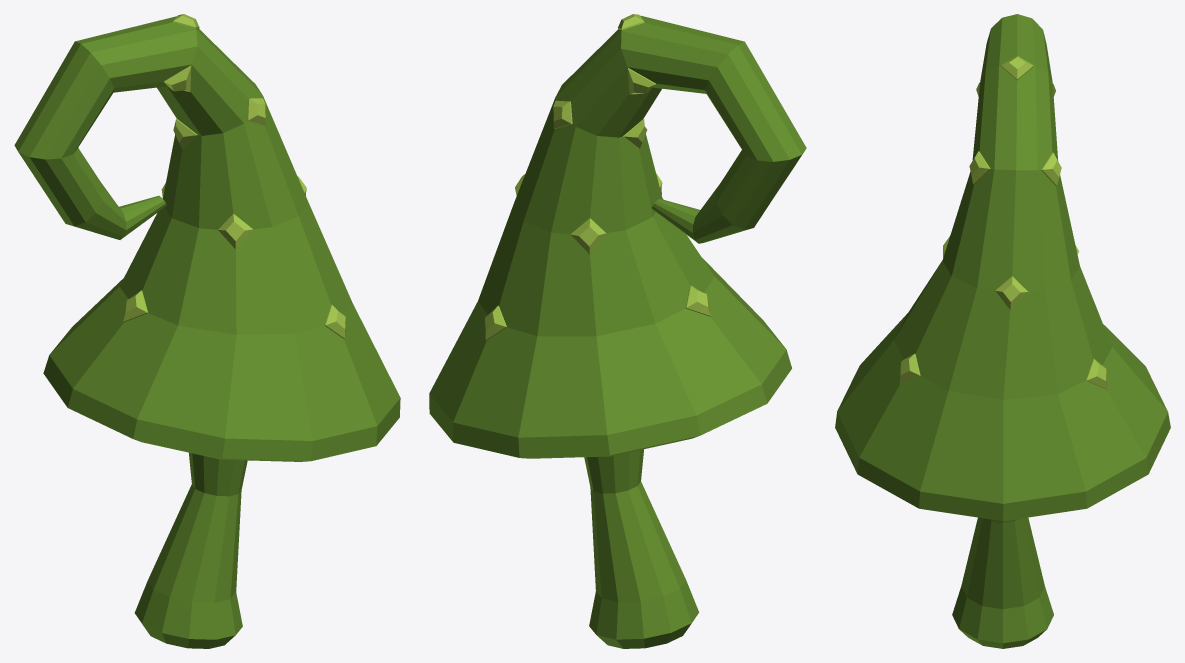
Rendered from Top_1.fbx.
The picture shows the model from 3 angles, left to right: view 1: azimuth 30°, elevation 25°; view 2: azimuth 150°, elevation 25°; view 3: azimuth 270°, elevation 25°; orthographic projection. The views are drawn at different scales.
Parts seen in each view (by area): view 1: M_Top 1; view 2: M_Top 1; view 3: M_Top 1.
Part boxes in pixels (x1,y1,x2,y2): M_Top 1: (14,14,400,648); M_Top 1: (429,14,806,648); M_Top 1: (835,14,1170,648).
Size of the model in its own units: 0.1306 by 0.2199 by 0.1161.
1 material, 1 textured.
